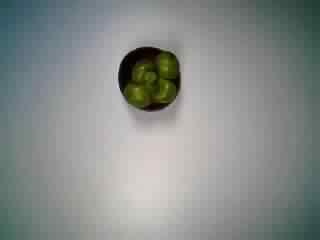mangosteen: (105, 42, 186, 117)
